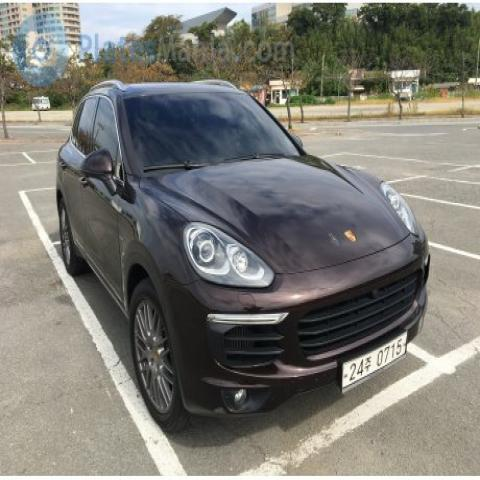LP: (328, 316, 415, 408)
